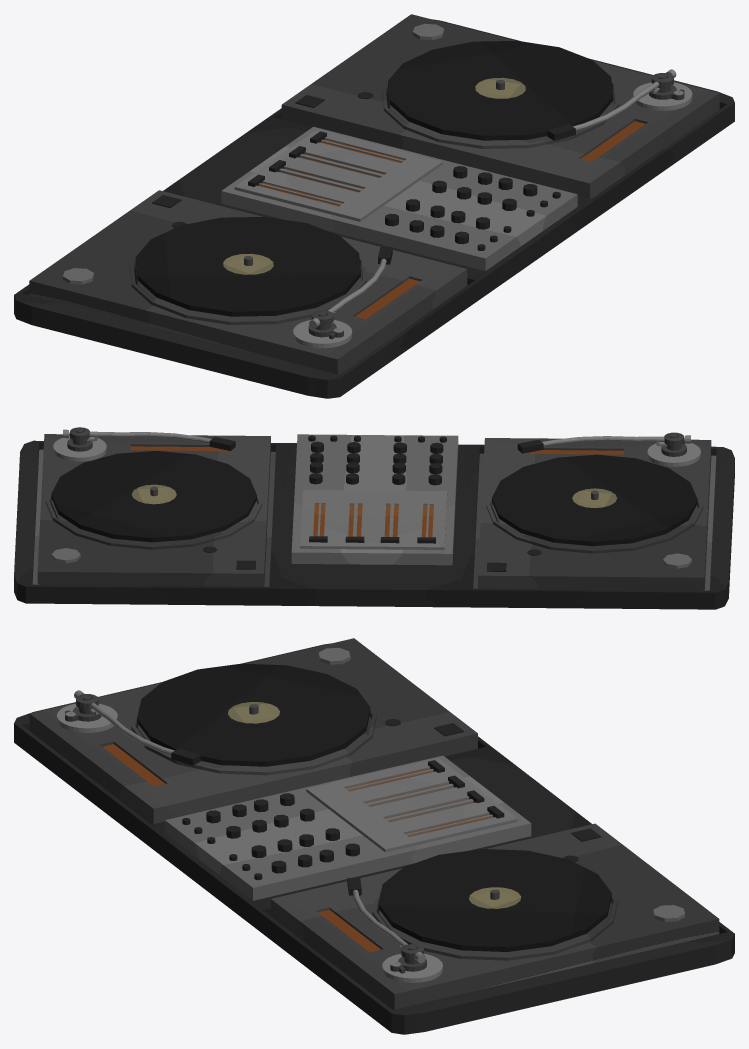
Rendered from DJ DECK.gltf.
The picture shows the model from 3 angles, top to bottom: view 1: azimuth 30°, elevation 25°; view 2: azimuth 150°, elevation 25°; view 3: azimuth 270°, elevation 25°; orthographic projection. The views are drawn at different scales.
Parts seen in each view (by area): view 1: DJ DECK; view 2: DJ DECK; view 3: DJ DECK.
Boxes of the visible parts, x1=… form: DJ DECK: x1=14, y1=14, x2=734, y2=398; DJ DECK: x1=14, y1=427, x2=734, y2=609; DJ DECK: x1=14, y1=638, x2=734, y2=1034.
Size of the model in its own units: 3.99 by 0.2712 by 3.25.
Materials: 1 (1 with a texture image).
